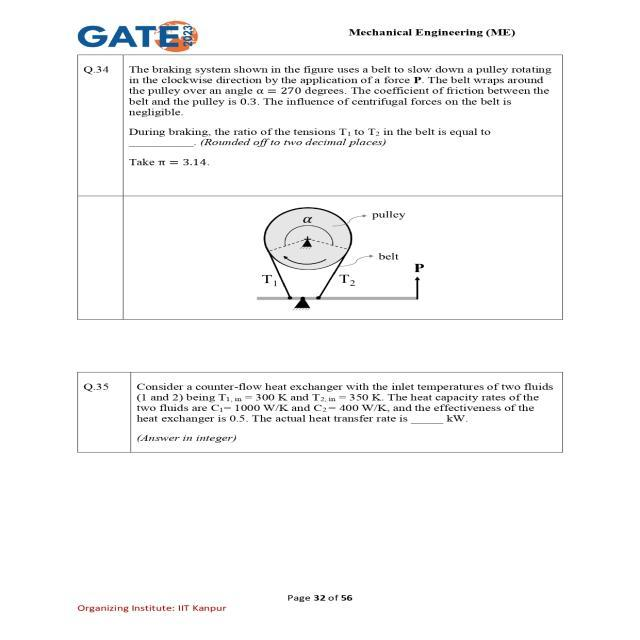Question_Answer_Block: (78, 57, 560, 319), (77, 373, 564, 450)
Question_Block: (73, 58, 563, 319), (77, 372, 560, 446)
Question_Paper_Area: (73, 52, 568, 456)
